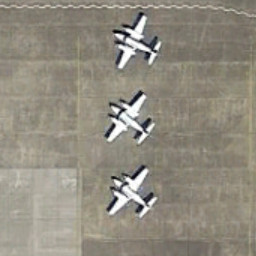Airplane: (89, 86, 166, 157), (105, 4, 171, 80), (98, 165, 164, 220)
